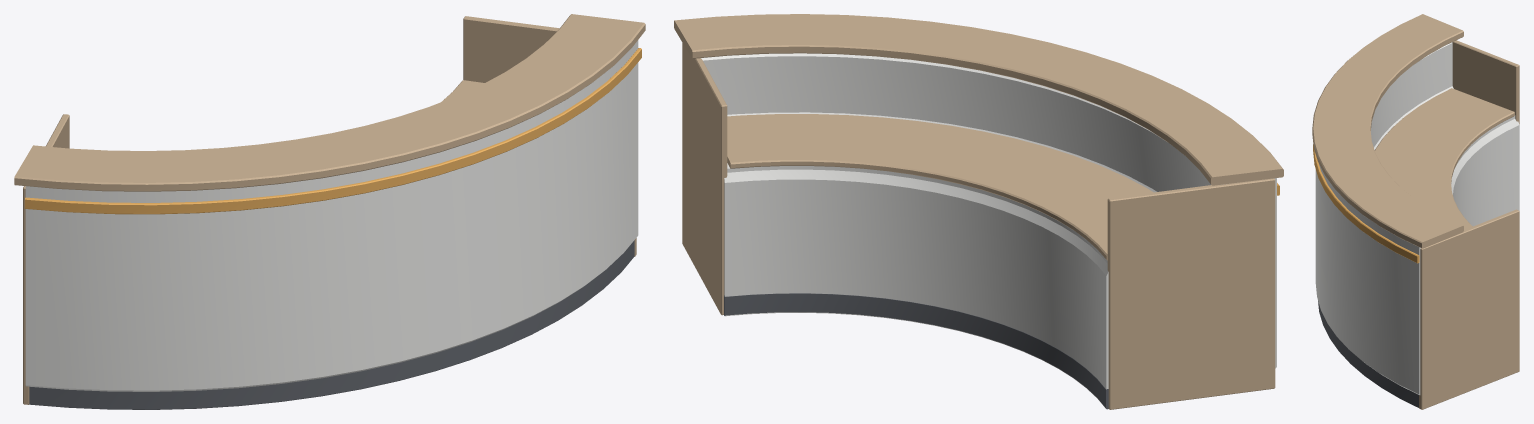
Rendered from office-lobby-and-facilities-reception-desk-curved-83bd6cd6__26133.glb.
The picture shows the model from 3 angles, left to right: view 1: azimuth 30°, elevation 25°; view 2: azimuth 150°, elevation 25°; view 3: azimuth 270°, elevation 25°; orthographic projection. The views are drawn at different scales.
Parts seen in each view (by area): view 1: reception-desk-curved; view 2: reception-desk-curved; view 3: reception-desk-curved.
Boxes of the visible parts, x1=… form: reception-desk-curved: x1=14, y1=14, x2=645, y2=409; reception-desk-curved: x1=674, y1=14, x2=1283, y2=409; reception-desk-curved: x1=1312, y1=14, x2=1519, y2=409.
Size of the model in its own units: 3.16 by 1.1 by 1.21.
